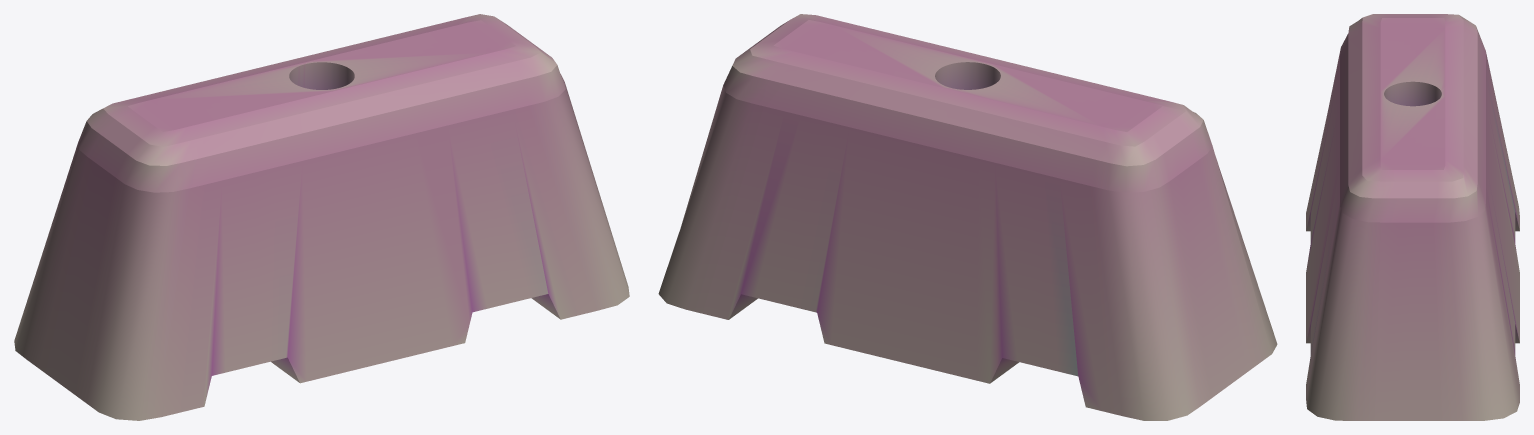
The picture shows the model from 3 angles, left to right: view 1: azimuth 30°, elevation 25°; view 2: azimuth 150°, elevation 25°; view 3: azimuth 270°, elevation 25°; orthographic projection. The views are drawn at different scales.
Visible parts, largest first — view 1: wall; view 2: wall; view 3: wall.
Part boxes in pixels (<box>): wall: <box>14,14,629,420</box>; wall: <box>658,14,1277,420</box>; wall: <box>1306,14,1519,420</box>.
Bounding box in the file's own units: 2 × 0.8805 × 0.7979.
